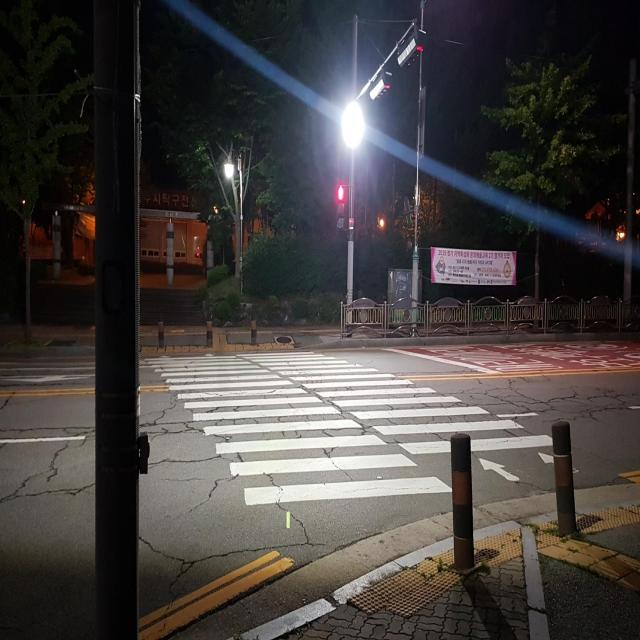빨간불: (331, 184, 349, 237)
횡단보도: (142, 349, 580, 508)
